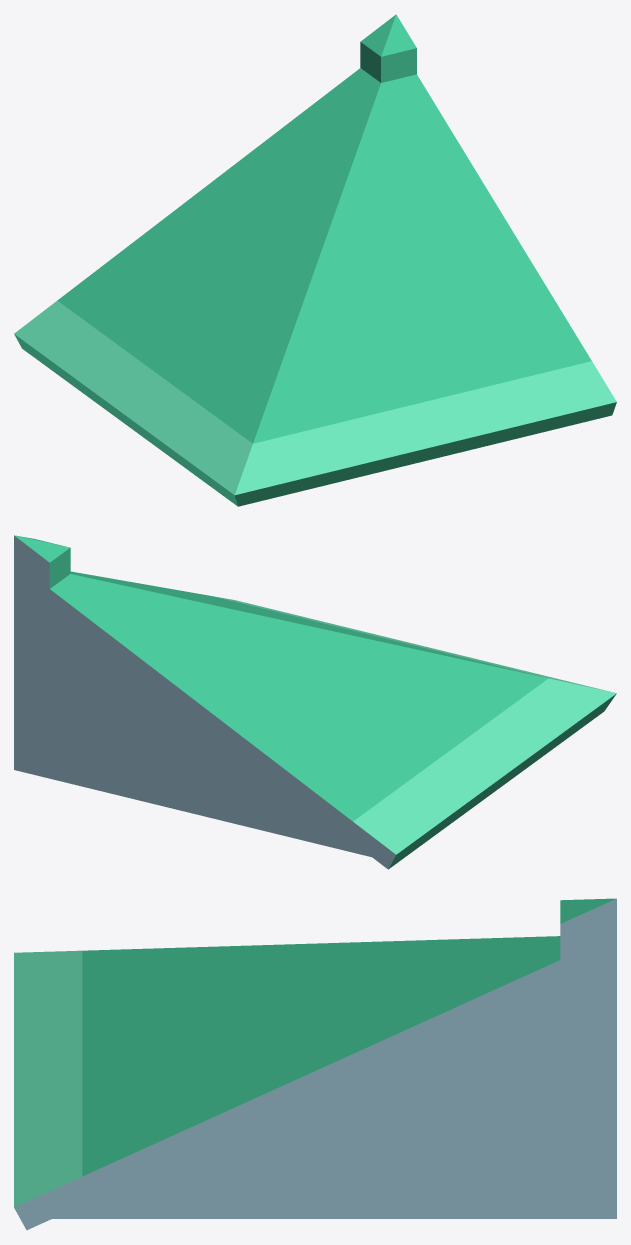
The model's file is roofCorner.fbx.
3 renders of one model, top to bottom at view 1: azimuth 30°, elevation 25°; view 2: azimuth 150°, elevation 25°; view 3: azimuth 270°, elevation 25°, orthographic. The views are drawn at different scales.
Parts seen in each view (by area): view 1: roofCorner; view 2: roofCorner; view 3: roofCorner.
Part boxes in pixels (bbox=[...]): roofCorner: bbox=[14, 14, 616, 506]; roofCorner: bbox=[14, 535, 616, 869]; roofCorner: bbox=[14, 898, 616, 1230].
Size of the model in its own units: 10.67 by 6.48 by 10.67.
